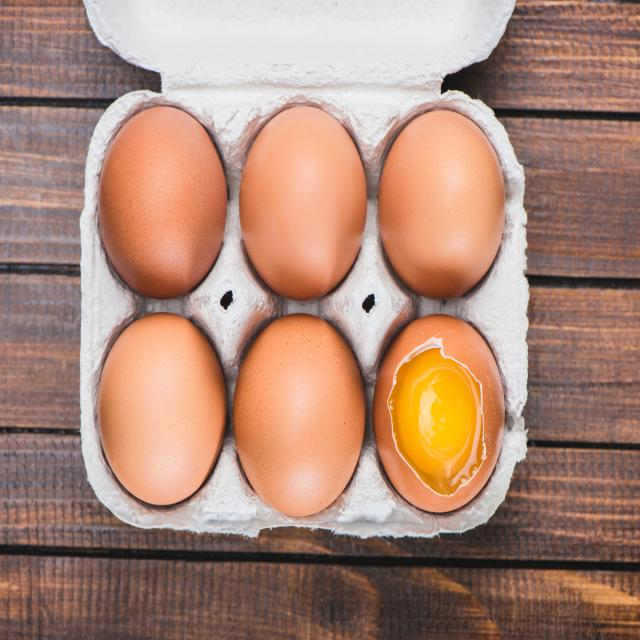Egg: (96, 112, 527, 308), (78, 313, 370, 541)
